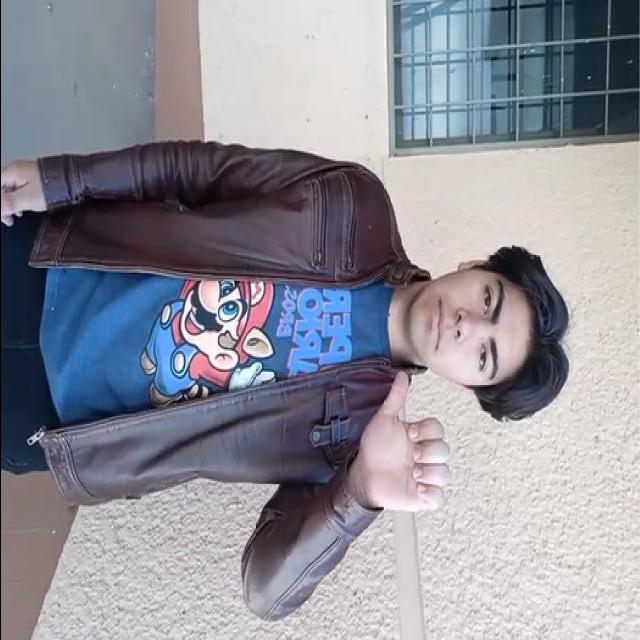A: (347, 324, 471, 538)
